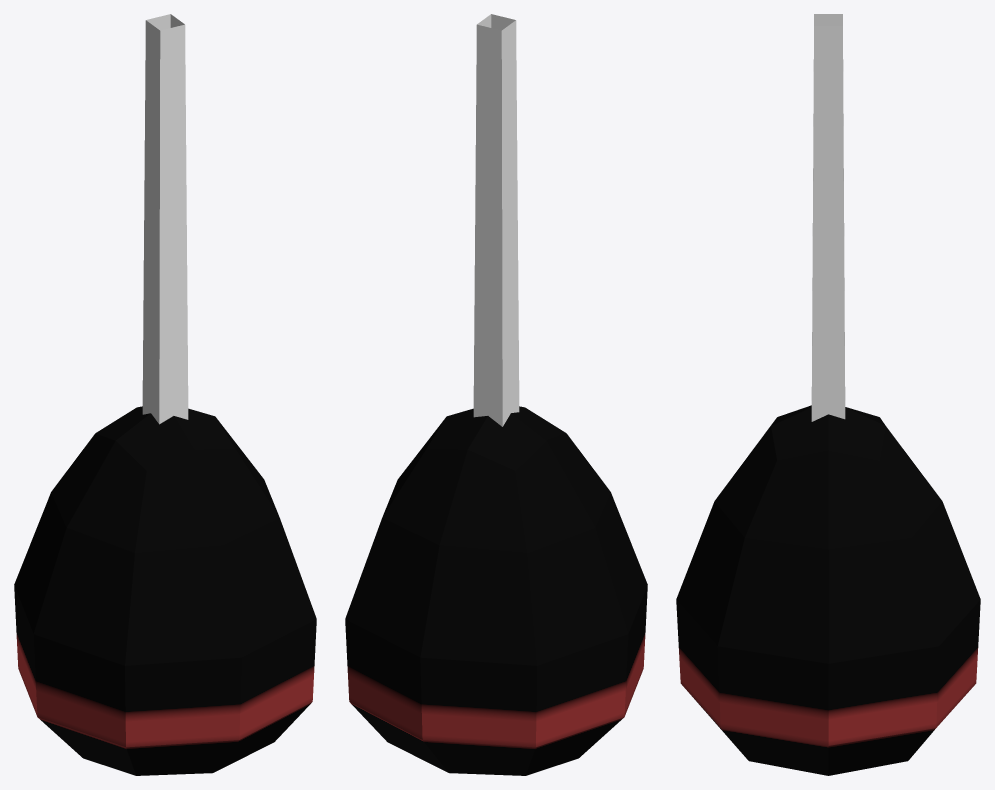
File: PunchingBagSmall.fbx
3 views of the same model, side by side, from view 1: azimuth 30°, elevation 25°; view 2: azimuth 150°, elevation 25°; view 3: azimuth 270°, elevation 25° (orthographic).
Visible parts, largest first — view 1: Cube.012; view 2: Cube.012; view 3: Cube.012.
Boxes of the visible parts, box(x1,y1,x2,y2) form: Cube.012: box(14, 14, 316, 775); Cube.012: box(345, 14, 647, 775); Cube.012: box(676, 14, 980, 775).
Bounding box in the file's own units: 151 × 402 × 151.
